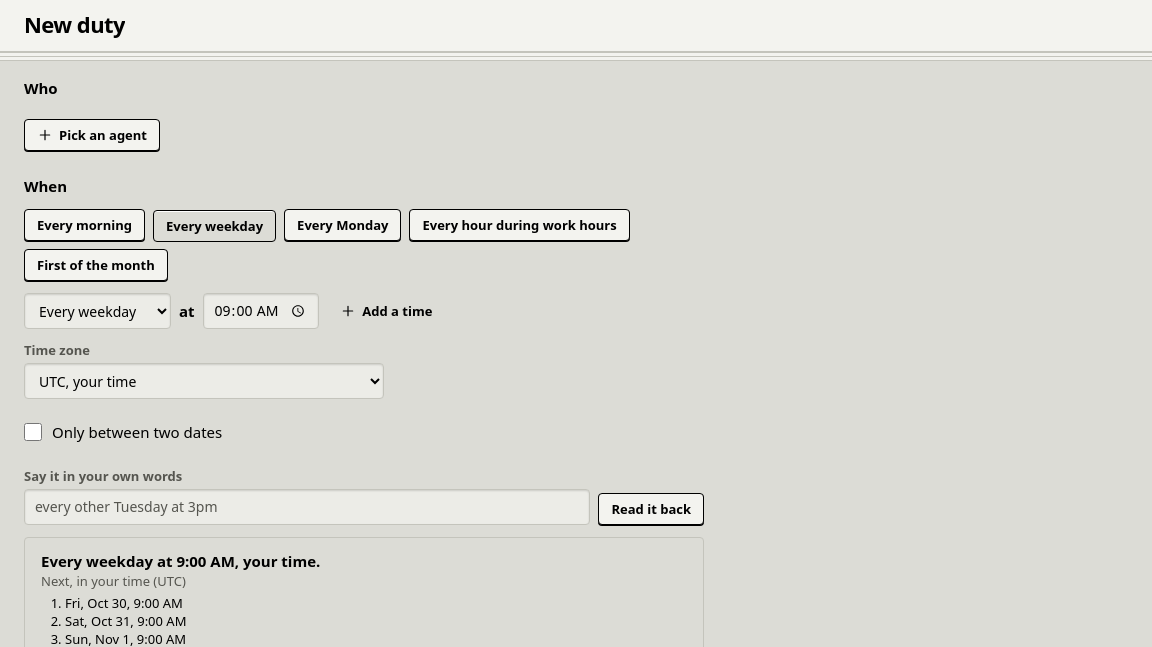
Check first › hides Write the check when the front answers 501
The image size is (1152, 647).
Click the button "Pick an agent".
click(92, 135)  # box [24, 119, 160, 151]
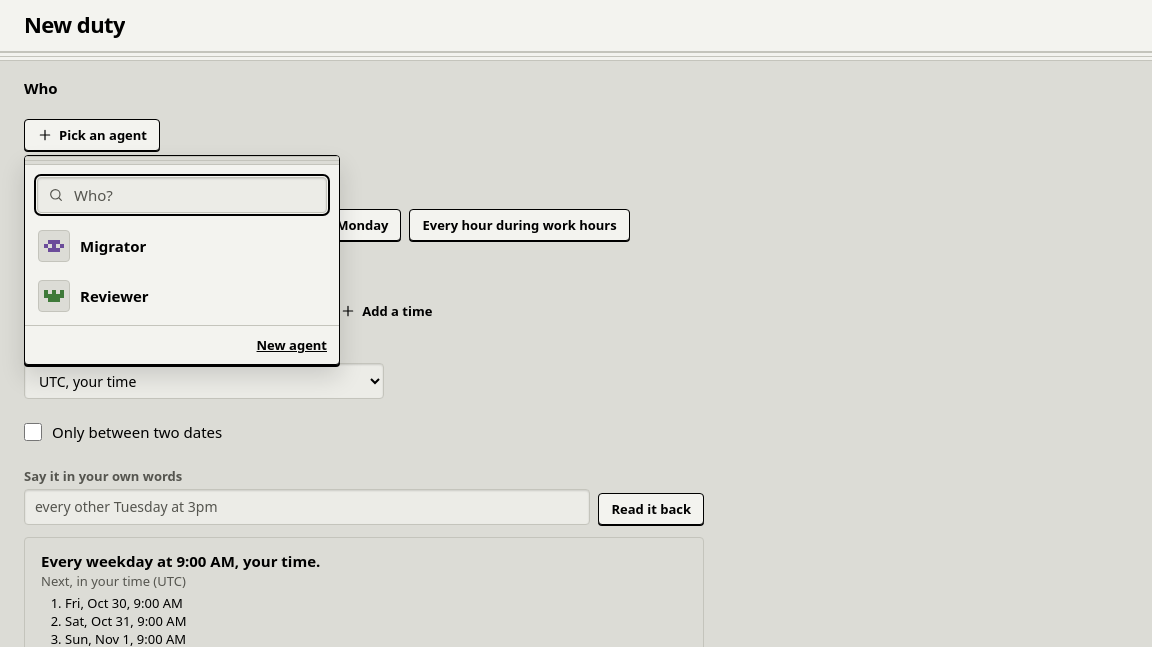
Click the button "Migrator".
click(54, 246)  # box [29, 221, 335, 271]
(page scrolled)
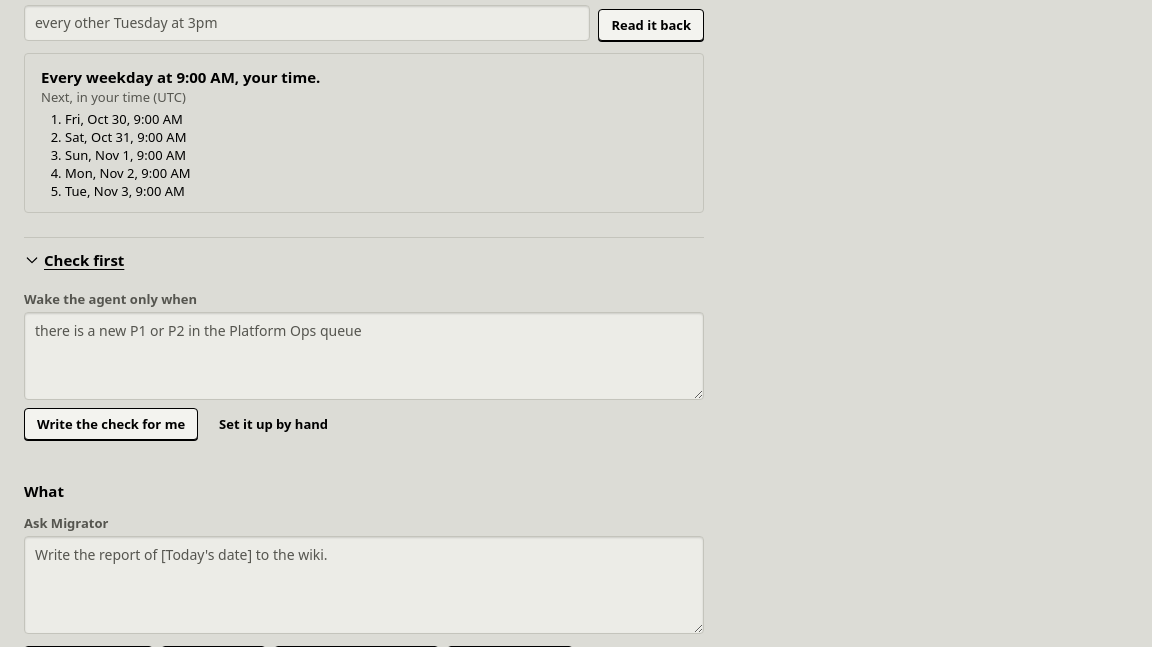
Type "a new incident" into the text box labelled "Wake the agent only when".
click(364, 356); type("a new incident")  # box [24, 312, 704, 400]
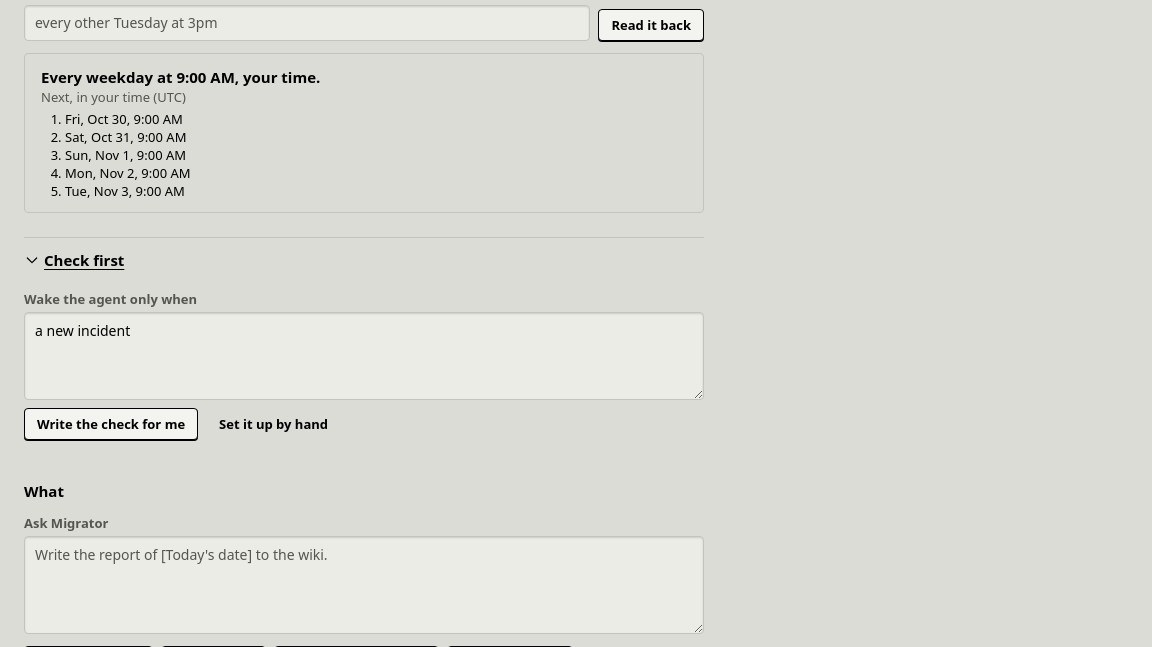
Click the button "Write the check for me".
click(111, 424)  # box [24, 408, 198, 440]
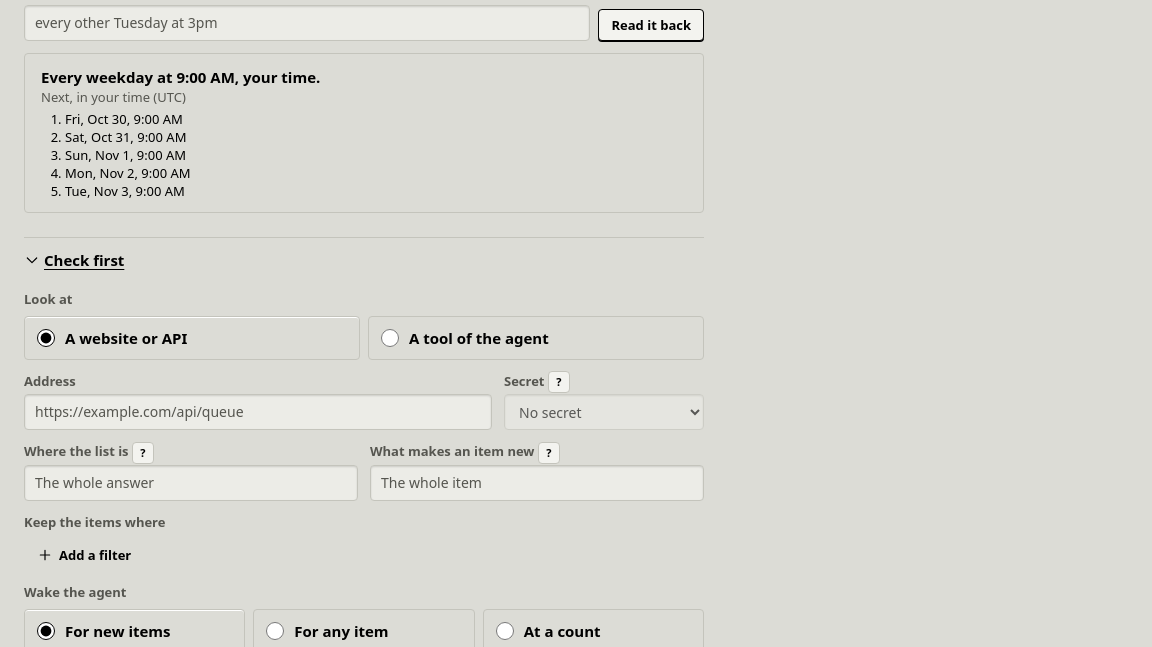
Check: the field labelled "Address" is shown, box [24, 394, 492, 430]
